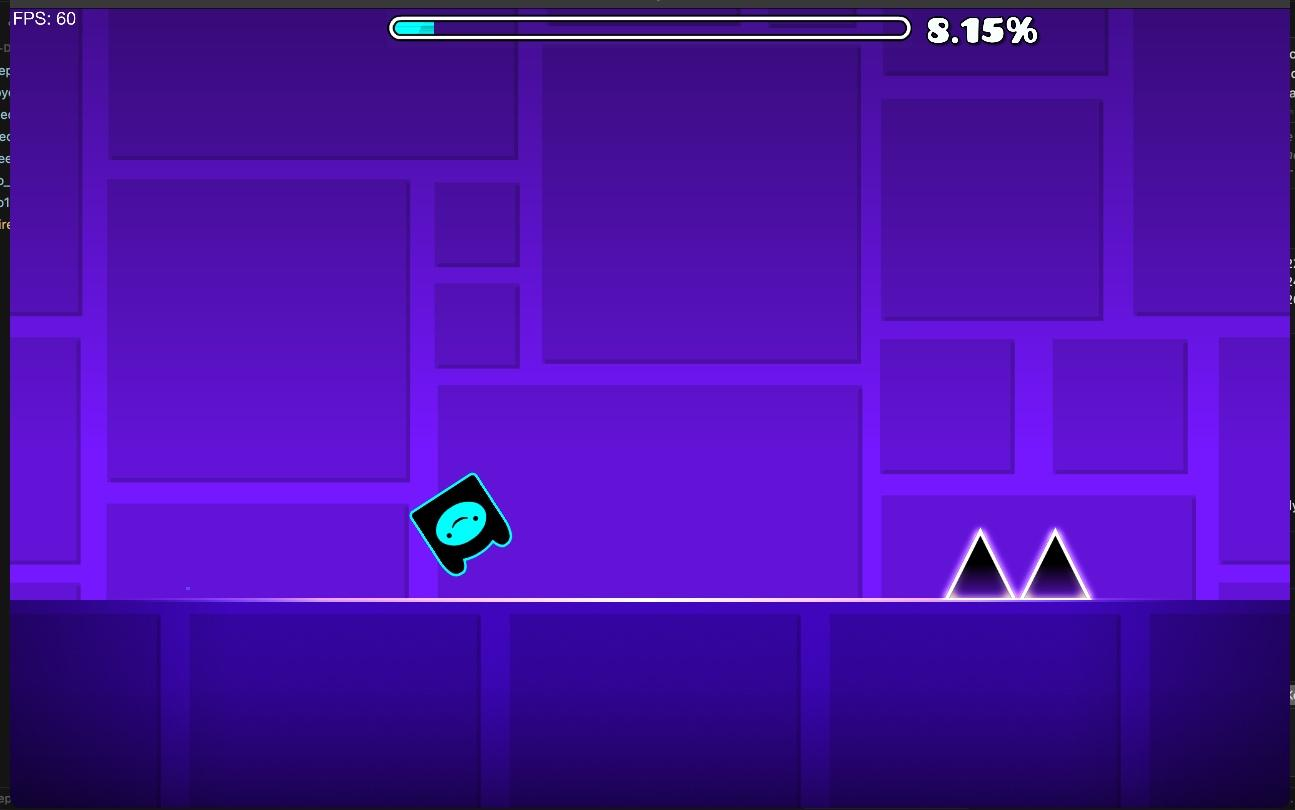player: (411, 474, 510, 575)
spike: (945, 530, 1017, 597), (1019, 532, 1090, 598)
